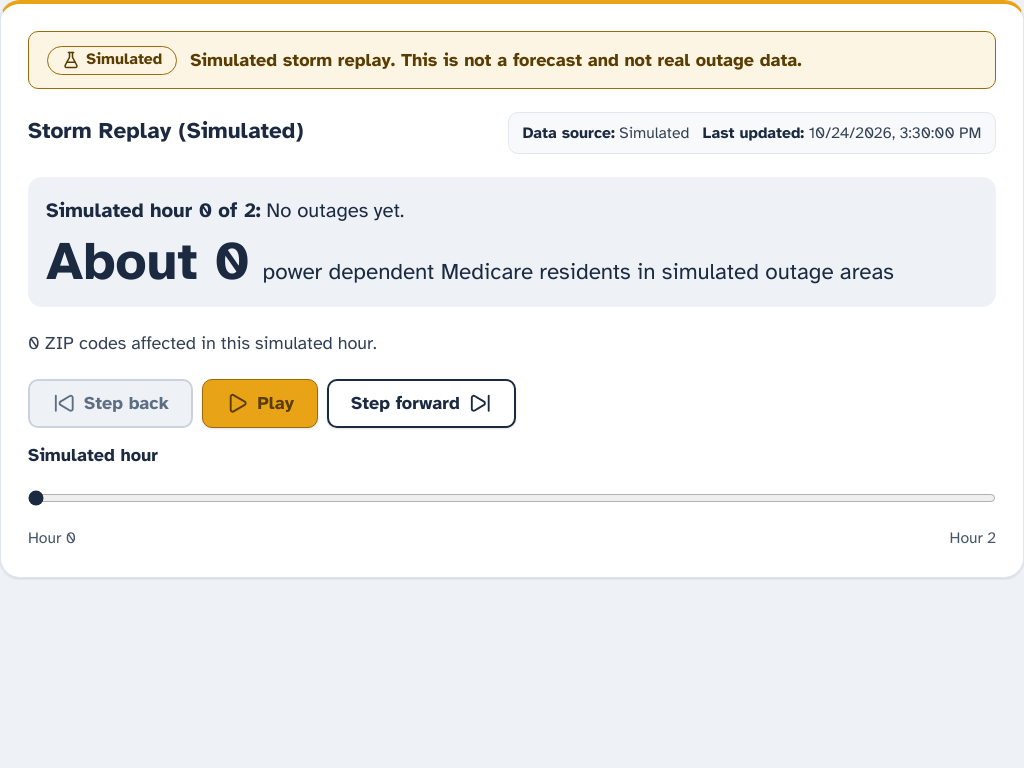
Test: StormReplay › steps forward and back, and the counter sums affected ZIPs only
The image size is (1024, 768).
Check: the text "About 0" is shown, box [46,235,249,289]
Step 1. Click the button "Step forward" → (421, 404), box [326,379,516,428]
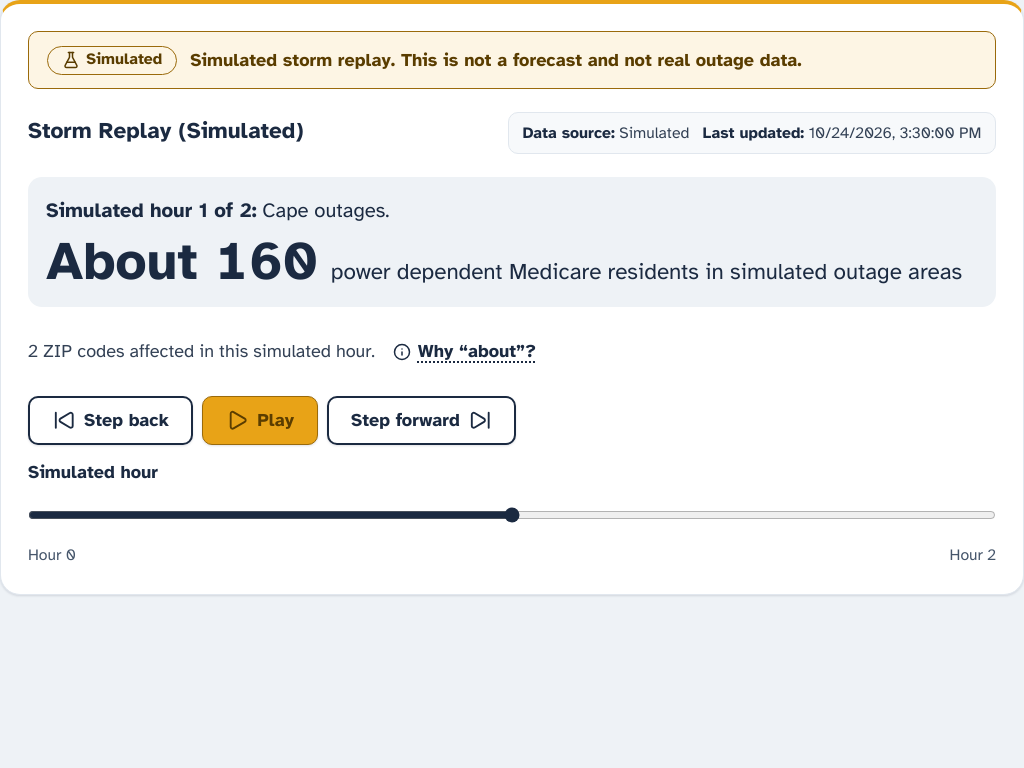
Check: the text "Simulated hour 1 of 2:" is shown, box [46,198,256,222]
Check: the text "About 160" is shown, box [46,235,317,289]
Step 2. Click the button "Step forward" → (421, 420), box [326,396,516,445]
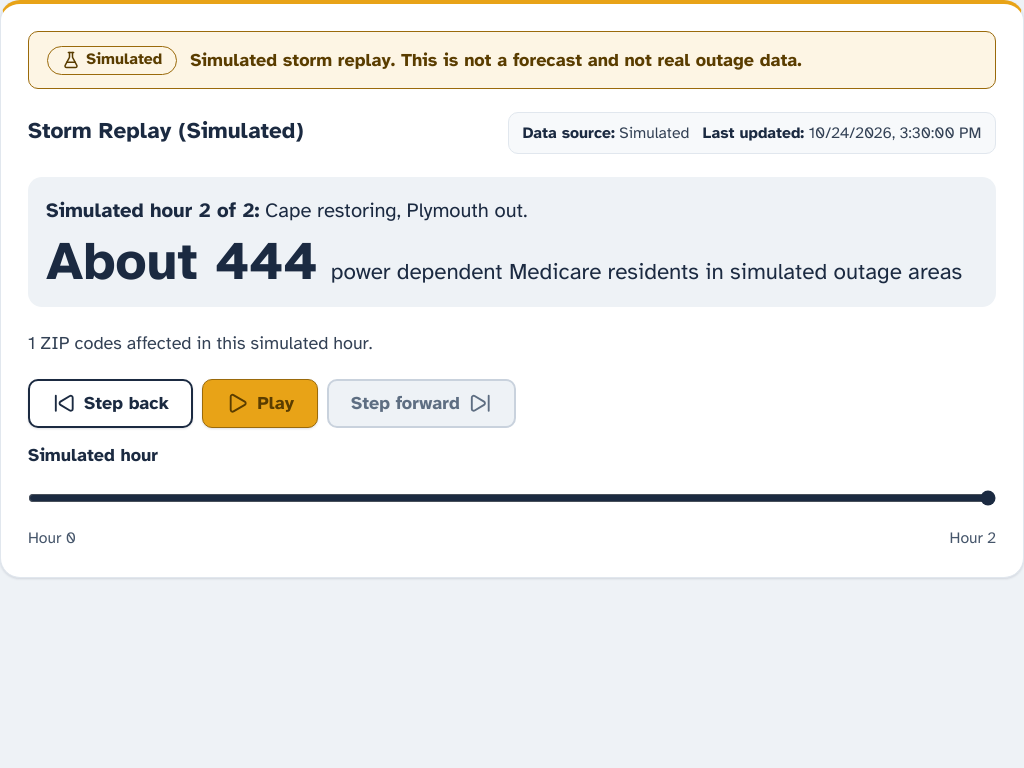
Check: the text "About 444" is shown, box [46,235,317,289]
Check: the button "Step forward" is disabled, box [326,379,516,428]
Step 3. Click the button "Step back" → (111, 404), box [28,379,193,428]
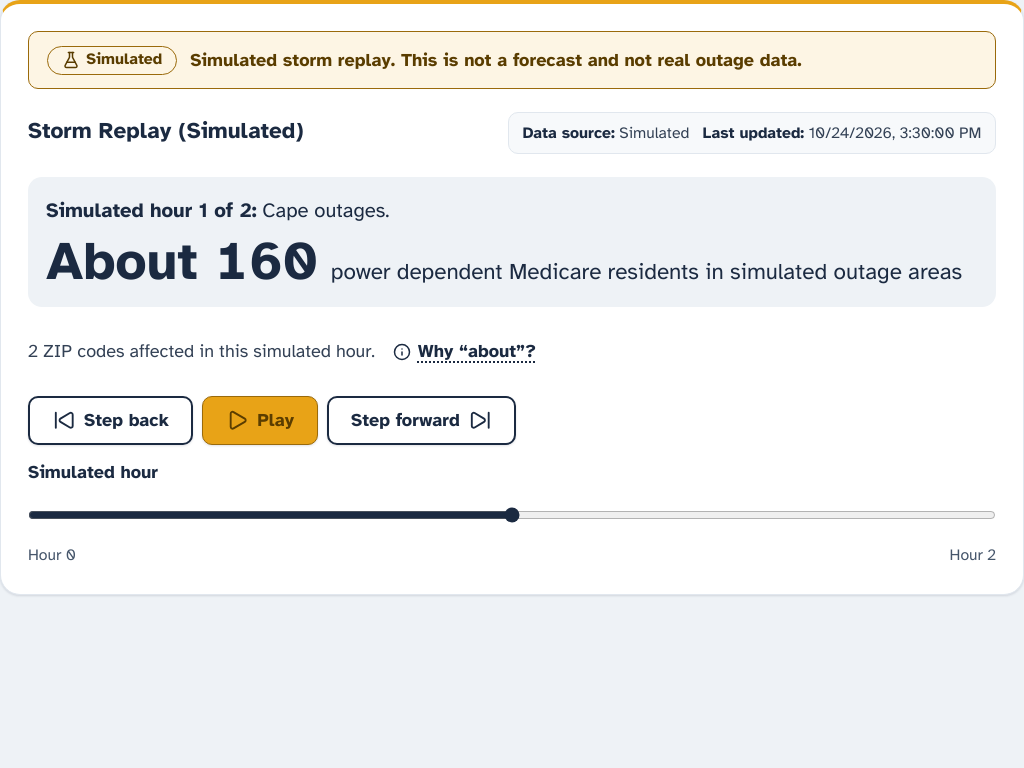
Check: the text "About 160" is shown, box [46,235,317,289]
